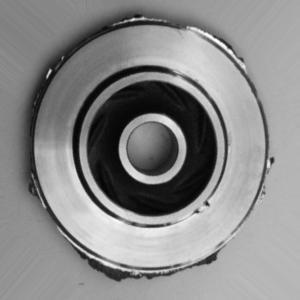casting_with_burr: (27, 13, 274, 285)
crack: (182, 197, 222, 224)
